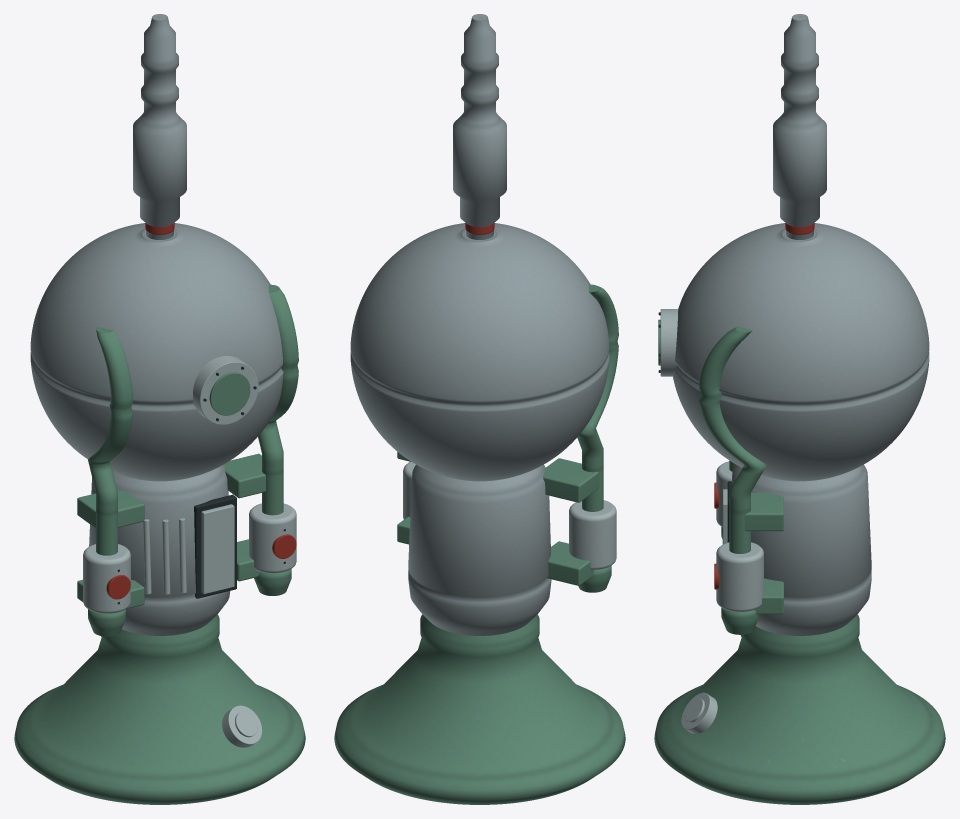
3 views of the same model, side by side, from view 1: azimuth 30°, elevation 25°; view 2: azimuth 150°, elevation 25°; view 3: azimuth 270°, elevation 25° (orthographic).
Parts seen in each view (by area): view 1: RI13 spherical converter housing, RI13 flared ground foot, RI13 lower equipment drum, RI13 segmented upper probe, RI13 green side riser -1, RI13 green side riser 1, RI13 lower front panel, RI13 side service pod -1, RI13 side service pod 1, RI13 spherical front fitting bezel, RI13 riser support 1 1, RI13 lower front panel frame (+6 smaller); view 2: RI13 spherical converter housing, RI13 flared ground foot, RI13 lower equipment drum, RI13 segmented upper probe, RI13 green side riser -1, RI13 side service pod -1, RI13 riser support -1 1, RI13 riser support -1 0; view 3: RI13 spherical converter housing, RI13 flared ground foot, RI13 lower equipment drum, RI13 segmented upper probe, RI13 green side riser 1, RI13 side service pod 1, RI13 riser support 1 1, RI13 spherical front fitting bezel, RI13 foot service fitting bezel, RI13 riser support 1 0, RI13 side service pod -1.
Boxes of the visible parts, bbox=[...] form: RI13 spherical converter housing: bbox=[30, 223, 283, 481]; RI13 flared ground foot: bbox=[14, 614, 305, 804]; RI13 lower equipment drum: bbox=[89, 464, 230, 635]; RI13 segmented upper probe: bbox=[133, 14, 186, 239]; RI13 green side riser -1: bbox=[88, 326, 132, 636]; RI13 green side riser 1: bbox=[254, 284, 298, 595]; RI13 lower front panel: bbox=[201, 504, 234, 594]; RI13 side service pod -1: bbox=[83, 544, 130, 613]; RI13 side service pod 1: bbox=[249, 503, 296, 573]; RI13 spherical front fitting bezel: bbox=[193, 356, 258, 424]; RI13 riser support 1 1: bbox=[224, 453, 265, 498]; RI13 lower front panel frame: bbox=[194, 494, 236, 598]; RI13 spherical converter housing: bbox=[350, 223, 609, 481]; RI13 flared ground foot: bbox=[334, 614, 625, 804]; RI13 lower equipment drum: bbox=[408, 464, 551, 635]; RI13 segmented upper probe: bbox=[453, 14, 506, 239]; RI13 green side riser -1: bbox=[577, 284, 618, 592]; RI13 side service pod -1: bbox=[569, 500, 616, 569]; RI13 riser support -1 1: bbox=[542, 458, 599, 502]; RI13 riser support -1 0: bbox=[547, 541, 594, 585]; RI13 spherical converter housing: bbox=[673, 223, 929, 481]; RI13 flared ground foot: bbox=[654, 614, 945, 804]; RI13 lower equipment drum: bbox=[732, 464, 871, 635]; RI13 segmented upper probe: bbox=[773, 14, 826, 239]; RI13 green side riser 1: bbox=[699, 326, 766, 634]; RI13 side service pod 1: bbox=[716, 542, 763, 612]; RI13 riser support 1 1: bbox=[744, 492, 783, 531]; RI13 spherical front fitting bezel: bbox=[660, 309, 678, 376]; RI13 foot service fitting bezel: bbox=[681, 692, 717, 733]; RI13 riser support 1 0: bbox=[755, 578, 783, 614]; RI13 side service pod -1: bbox=[716, 461, 732, 526].
Size of the model in its own units: 1.46 by 4.1 by 1.46.
Materials: 8 (4 with a texture image).
